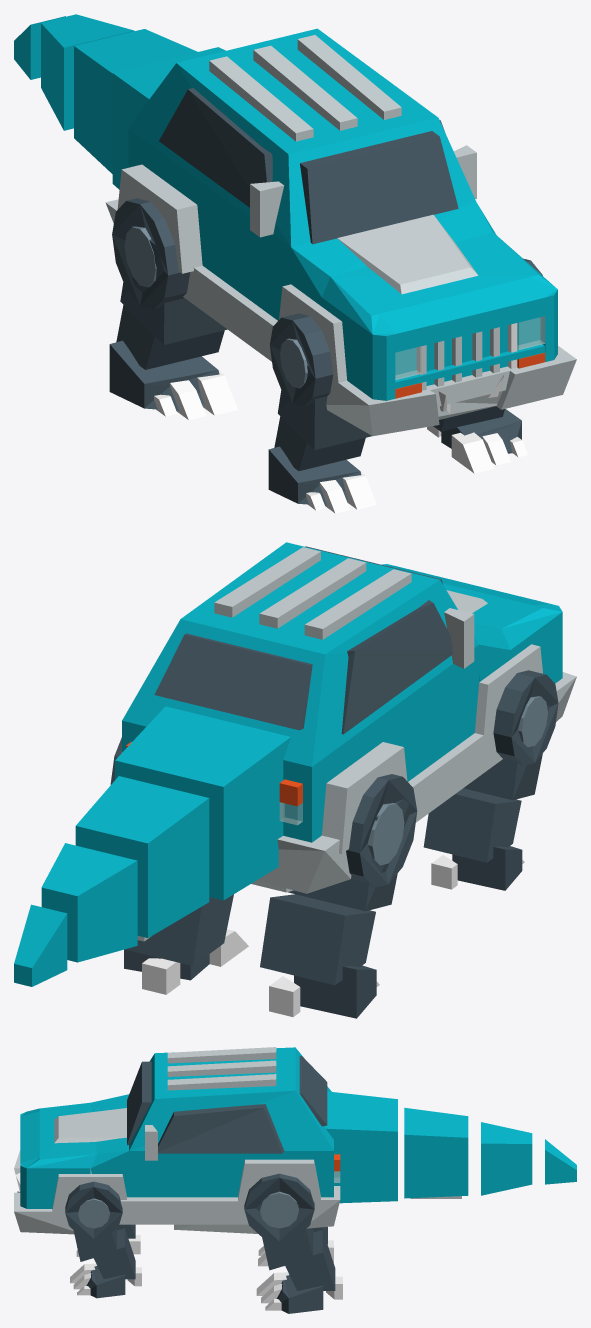
The model's file is prop_alien_biomech_spire.glb.
3 renders of one model, top to bottom at view 1: azimuth 30°, elevation 25°; view 2: azimuth 150°, elevation 25°; view 3: azimuth 270°, elevation 25°, orthographic. The views are drawn at different scales.
Parts seen in each view (by area): view 1: group806047933, group247322691, group1768201262, group773448419, group302867006, group1395231522, group1766585733, group2107833641, group1030103782, group49068896, group858995499, group457558533 (+26 smaller); view 2: group806047933, group565524974, group773448419, group231661385, group257624286, group15466328, group302867006, group1030103782, group1525382234, group49068896, group1768201262, group2107833641 (+17 smaller); view 3: group806047933, group565524974, group773448419, group509881894, group1768201262, group664529727, group1713040283, group257624286, group980840672, group1831415227, group1766585733, group2013856534 (+19 smaller).
Part boxes in pixels (x1,y1,x2,y2): group806047933: (128, 28, 476, 320); group247322691: (300, 131, 458, 244); group1768201262: (321, 232, 556, 398); group773448419: (74, 29, 197, 173); group302867006: (159, 88, 272, 207); group1395231522: (380, 277, 545, 352); group1766585733: (337, 214, 478, 294); group2107833641: (109, 340, 237, 419); group1030103782: (112, 198, 190, 309); group49068896: (270, 313, 333, 406); group858995499: (268, 446, 376, 513); group457558533: (291, 202, 496, 306); group806047933: (122, 542, 480, 842); group565524974: (115, 706, 290, 900); group773448419: (75, 776, 209, 941); group231661385: (154, 633, 312, 730); group257624286: (41, 843, 137, 962); group15466328: (260, 894, 375, 985); group302867006: (341, 600, 452, 734); group1030103782: (346, 774, 417, 887); group1525382234: (423, 788, 521, 862); group49068896: (493, 670, 558, 765); group1768201262: (443, 583, 562, 683); group2107833641: (269, 965, 379, 1018); group806047933: (125, 1047, 333, 1197); group565524974: (325, 1091, 397, 1203); group773448419: (404, 1107, 468, 1198); group509881894: (158, 1104, 284, 1153); group1768201262: (26, 1102, 96, 1208); group664529727: (244, 1173, 314, 1241); group1713040283: (119, 1197, 248, 1224); group257624286: (481, 1122, 532, 1195); group980840672: (65, 1181, 122, 1238); group1831415227: (256, 1272, 342, 1313); group1766585733: (54, 1108, 126, 1143); group2013856534: (238, 1159, 320, 1201).
Size of the model in its own units: 0.2756 by 0.3706 by 0.88.
